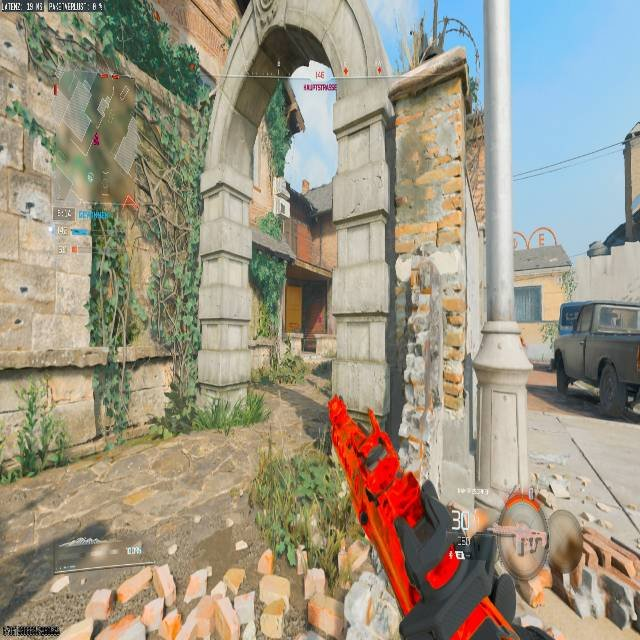head: (496, 499, 553, 575)
player: (424, 497, 639, 639)
